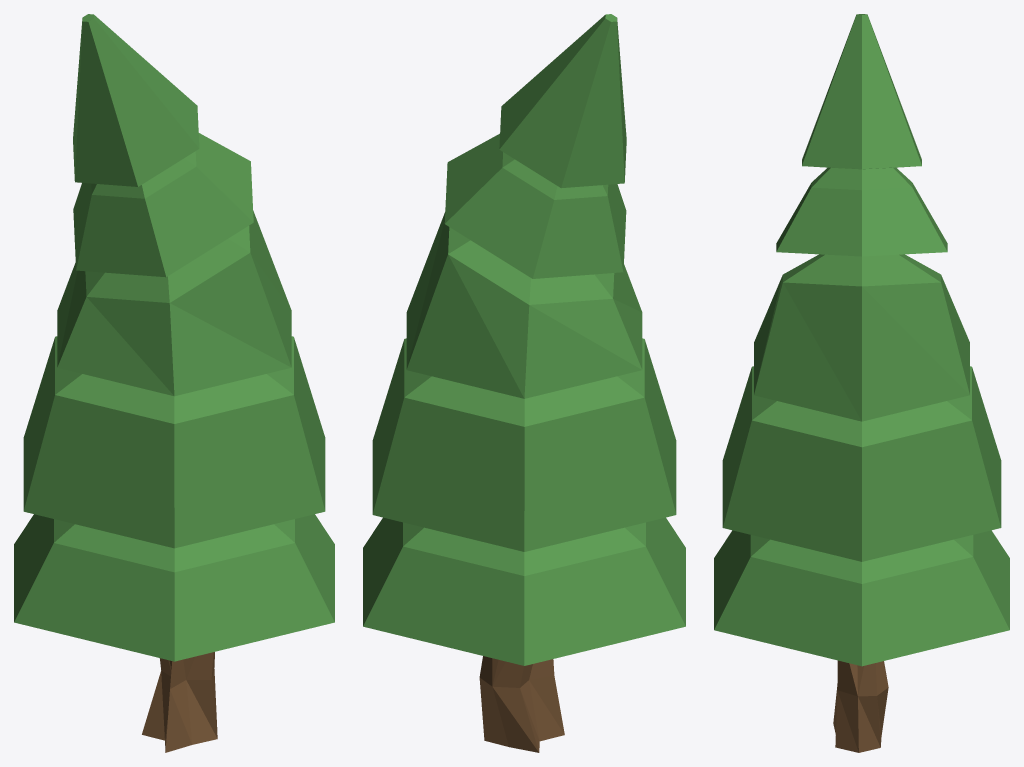
The model's file is tree3d-166.glb.
The picture shows the model from 3 angles, left to right: view 1: azimuth 30°, elevation 25°; view 2: azimuth 150°, elevation 25°; view 3: azimuth 270°, elevation 25°; orthographic projection. The views are drawn at different scales.
Parts seen in each view (by area): view 1: tree3d-166; view 2: tree3d-166; view 3: tree3d-166.
Boxes of the visible parts, x1,y1,x2,y2 form: tree3d-166: [14, 14, 334, 752]; tree3d-166: [363, 14, 685, 752]; tree3d-166: [714, 14, 1009, 752].
Size of the model in its own units: 0.4532 by 1 by 0.3925.
